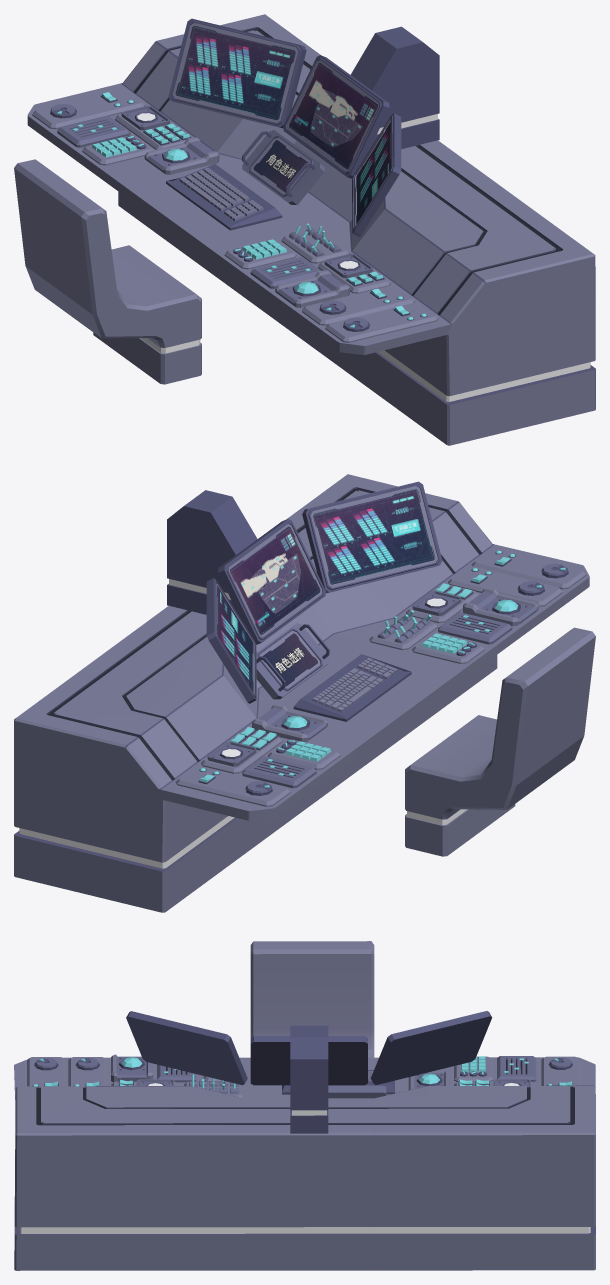
File: TableSideA.fbx
3 views of the same model, one above another, from view 1: azimuth 30°, elevation 25°; view 2: azimuth 150°, elevation 25°; view 3: azimuth 270°, elevation 25° (orthographic). The views are drawn at different scales.
Visible parts, largest first — view 1: tableSideA; view 2: tableSideA; view 3: tableSideA.
Boxes of the visible parts, box(x1,y1,x2,y2) form: tableSideA: box(14, 14, 595, 445); tableSideA: box(14, 474, 595, 912); tableSideA: box(14, 941, 595, 1270).
Size of the model in its own units: 1.42 by 0.92 by 2.14.
